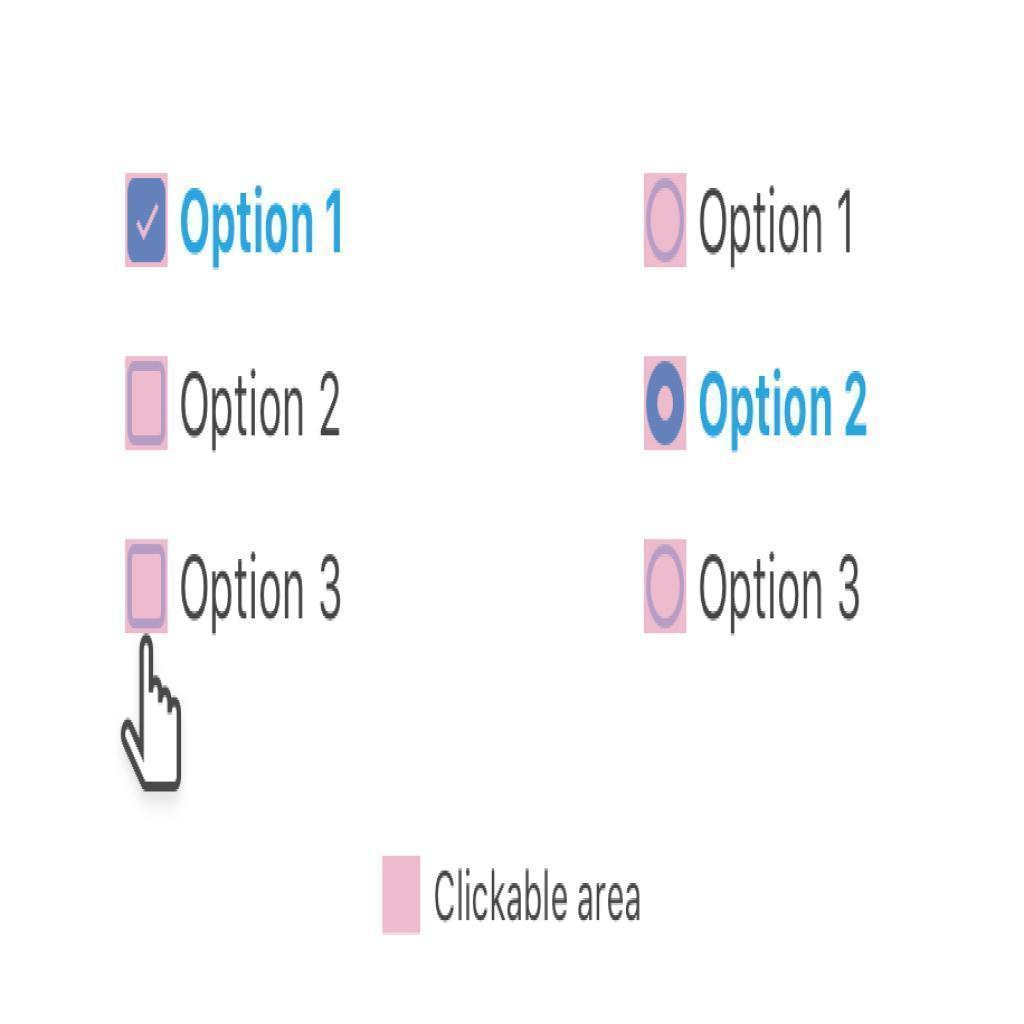checkbox: (125, 176, 169, 274), (124, 540, 167, 635), (128, 358, 167, 450), (380, 855, 422, 936)
label: (696, 363, 874, 457), (693, 544, 864, 640), (176, 180, 348, 271), (176, 364, 349, 453), (177, 546, 345, 637), (429, 863, 647, 929), (699, 179, 857, 269)
radio: (644, 168, 689, 275), (644, 538, 689, 635), (644, 360, 690, 450)
